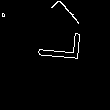L_W: (28, 37, 82, 73)
